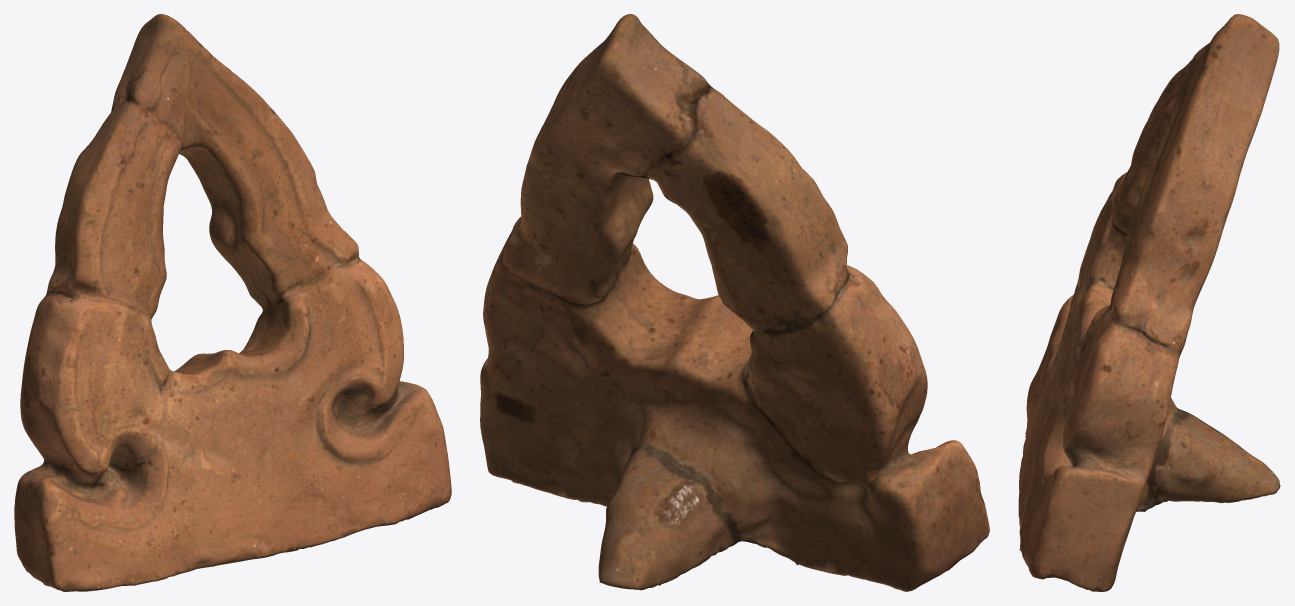
File: MysonMuseum_diemmai3canh_final.glb
The picture shows the model from 3 angles, left to right: view 1: azimuth 30°, elevation 25°; view 2: azimuth 150°, elevation 25°; view 3: azimuth 270°, elevation 25°; orthographic projection. The views are drawn at different scales.
Bounding box in the file's own units: 0.2179 × 0.2523 × 0.1217.
1 material, 1 textured.
